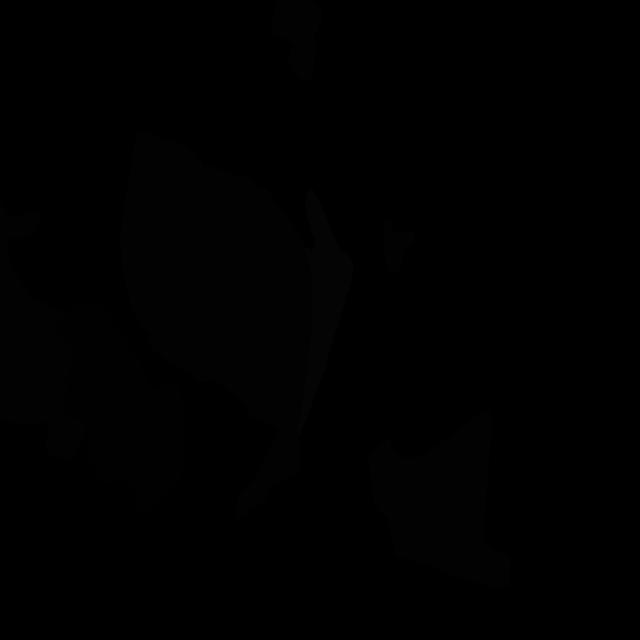cardboard: (120, 131, 312, 431), (368, 409, 511, 589), (0, 202, 86, 461), (235, 421, 301, 520), (270, 0, 322, 81), (383, 218, 416, 274)
rigid_plastic: (52, 303, 186, 516)
soft_plastic: (296, 188, 354, 438)
